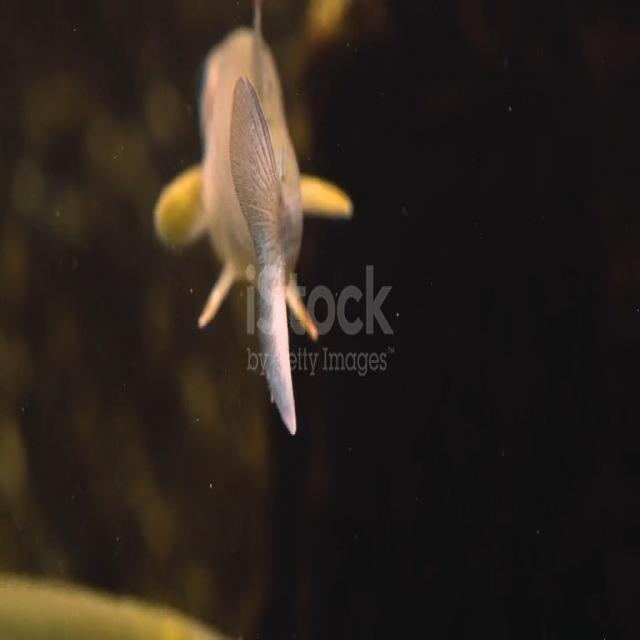fish: (152, 0, 359, 465)
